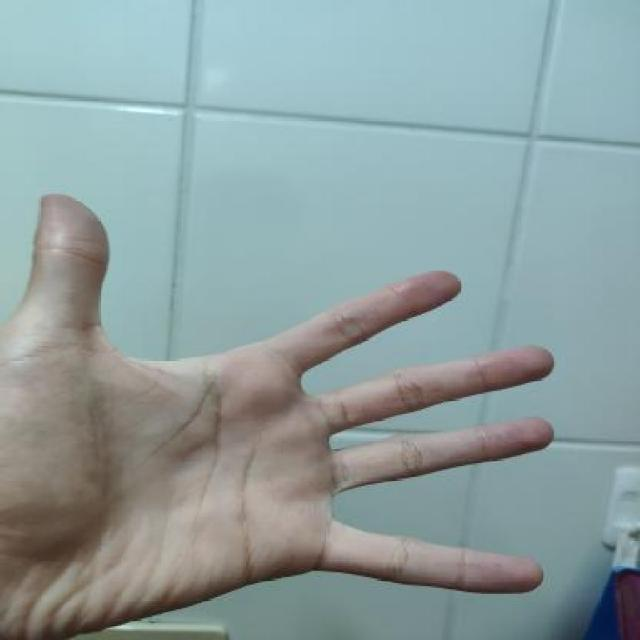hand: (0, 188, 554, 620)
